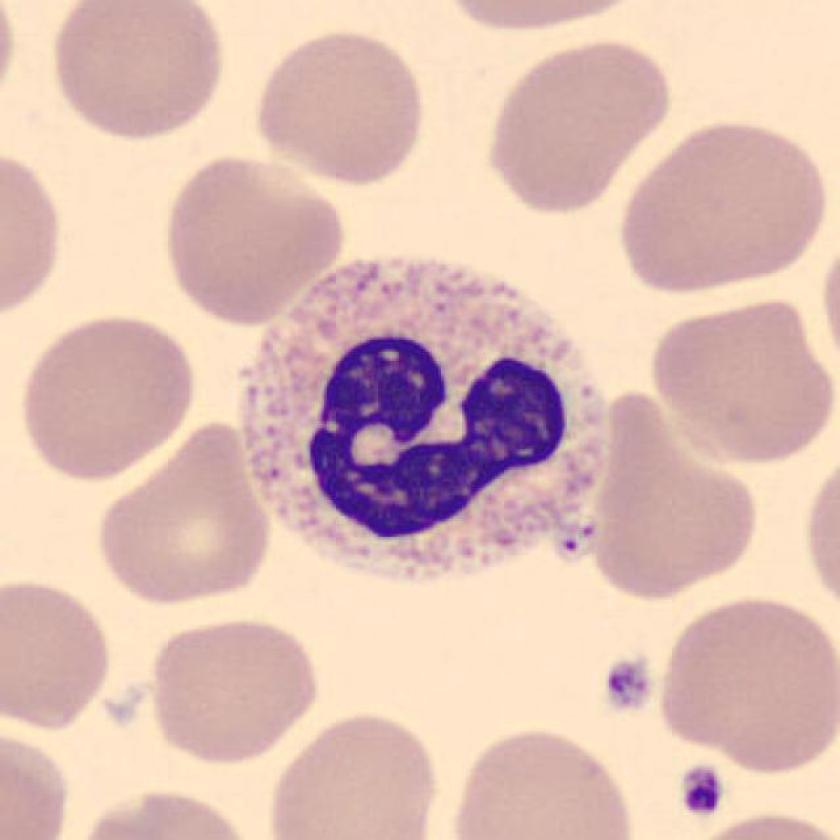neutrophil: (238, 256, 612, 581)
